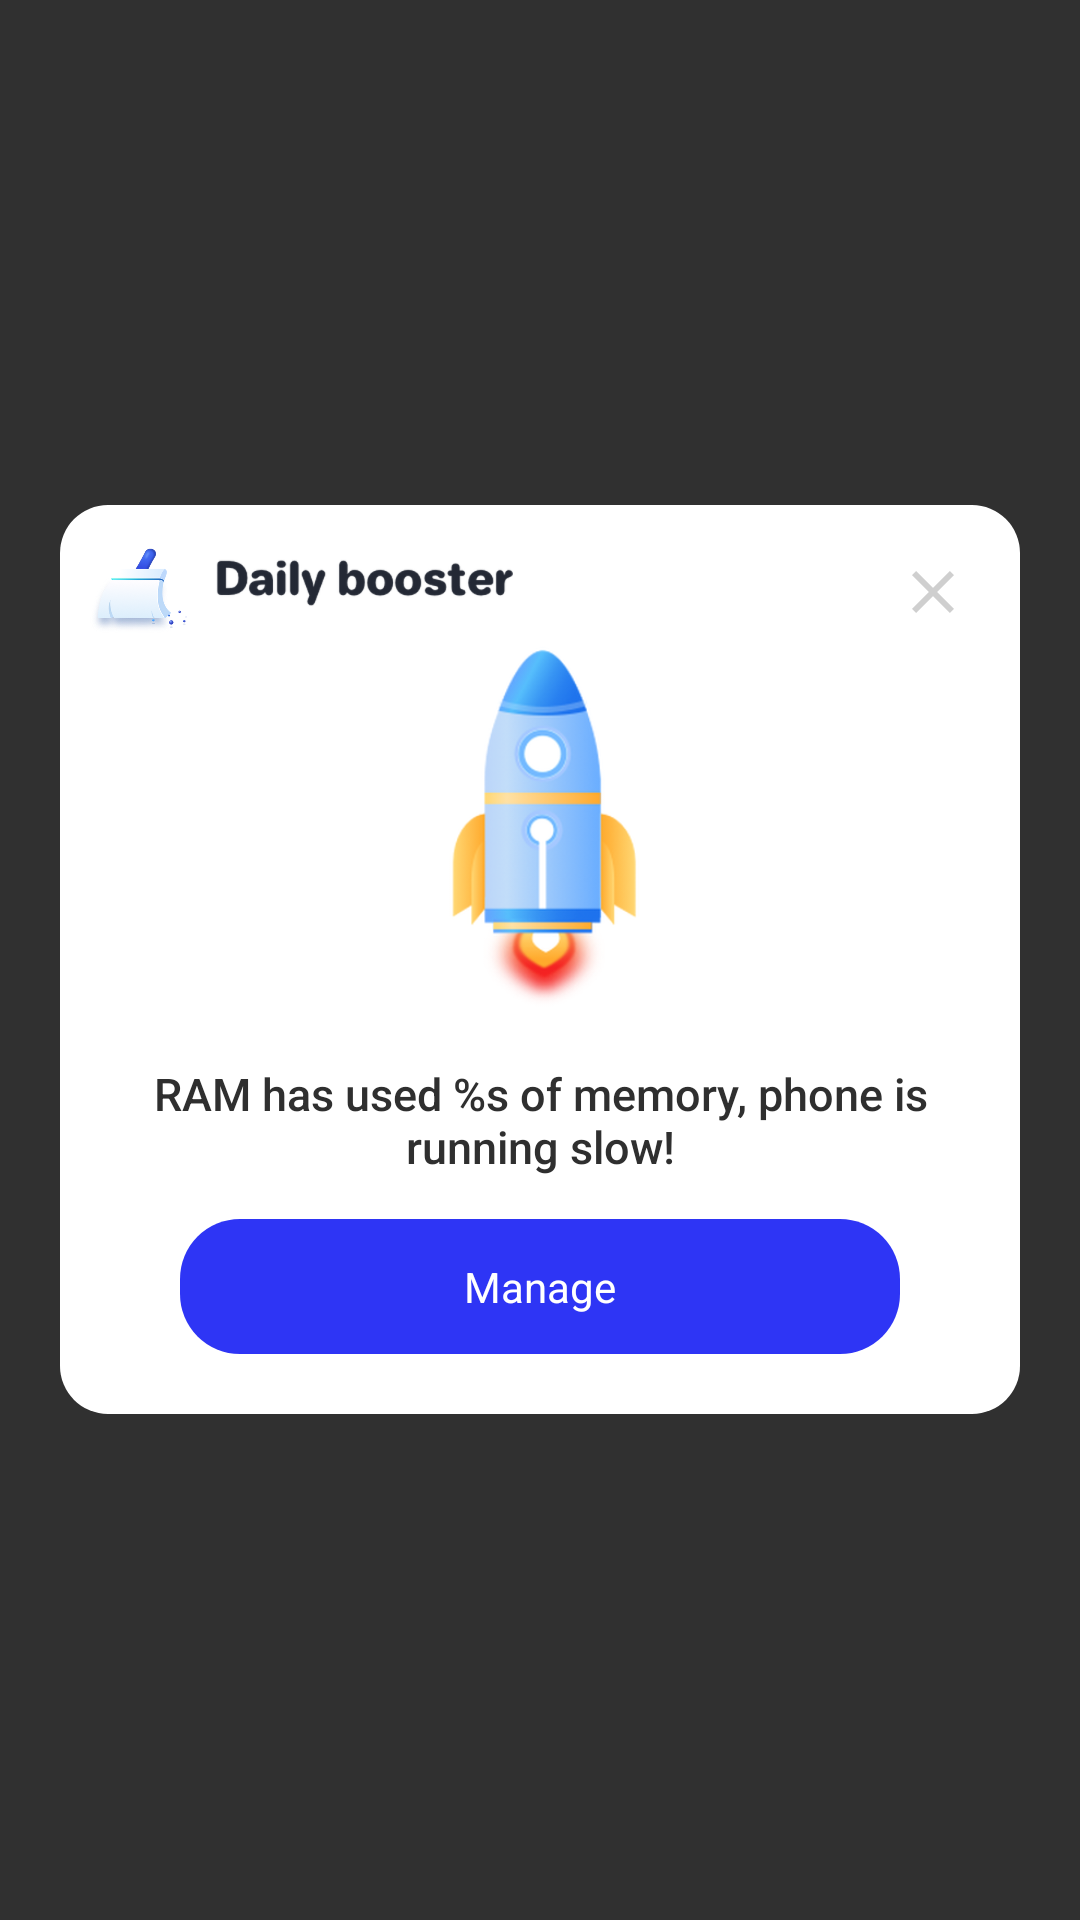

Icons on this 1080*1920 Android screen, each with its box as (x1, y1, x2, y2):
close: (912, 571, 954, 613)
pop act boost: (452, 650, 636, 997)
